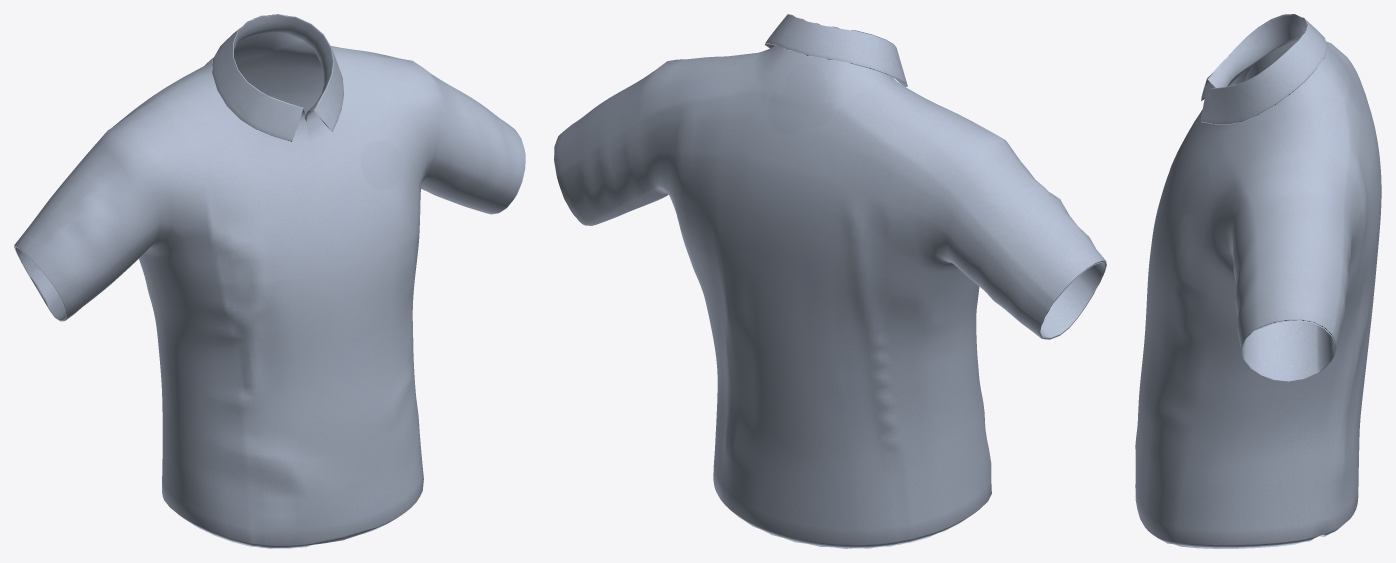
File: polo.gltf
3 renders of one model, left to right at view 1: azimuth 30°, elevation 25°; view 2: azimuth 150°, elevation 25°; view 3: azimuth 270°, elevation 25°, orthographic. The views are drawn at different scales.
Parts seen in each view (by area): view 1: Polo_LV2:Polo_Low; view 2: Polo_LV2:Polo_Low; view 3: Polo_LV2:Polo_Low.
Part boxes in pixels (x1=…): Polo_LV2:Polo_Low: x1=14, y1=14, x2=525, y2=548; Polo_LV2:Polo_Low: x1=554, y1=14, x2=1106, y2=548; Polo_LV2:Polo_Low: x1=1135, y1=14, x2=1381, y2=548.
Size of the model in its own units: 2 by 1.82 by 0.8386.
Materials: 1 (1 with a texture image).
